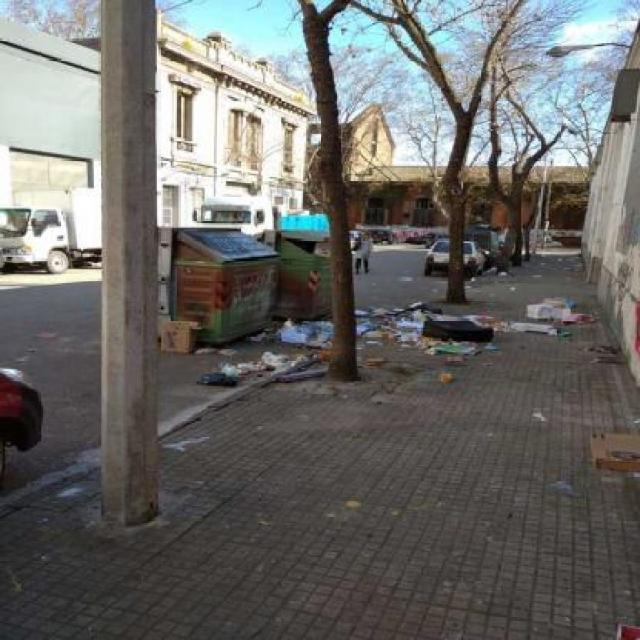garbage: (158, 226, 320, 390), (356, 303, 583, 378), (359, 348, 466, 395), (529, 288, 594, 340), (579, 419, 640, 468)
